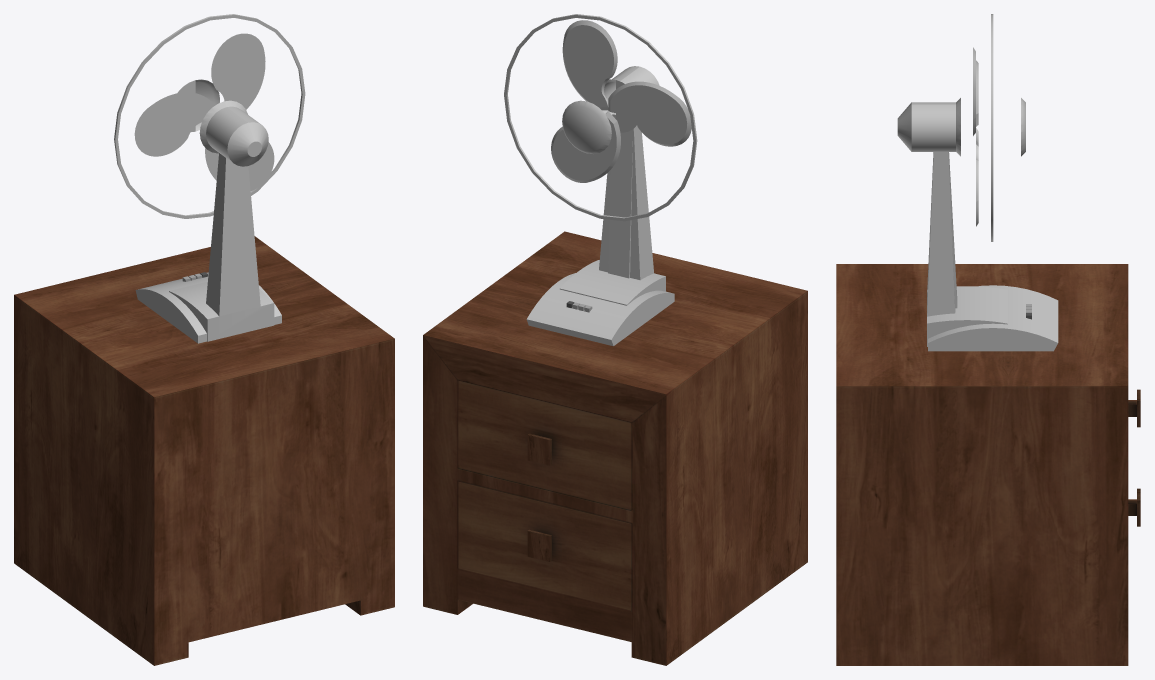
File: Fan.glb
3 renders of one model, left to right at view 1: azimuth 30°, elevation 25°; view 2: azimuth 150°, elevation 25°; view 3: azimuth 270°, elevation 25°, orthographic. The views are drawn at different scales.
Visible parts, largest first — view 1: Bollard, ID90, group_3, group_1, ID74, ID68, ID112, ID138, group_0, group_2, ID60, ID47; view 2: Bollard, ID90, group_3, group_1, group_0, ID74, group_2, ID47, ID138, ID68; view 3: Bollard, ID90, group_0, ID68, ID74, ID144, ID112.
Boxes of the visible parts, bbox=[...] form: Bollard: bbox=[14, 236, 394, 665]; ID90: bbox=[169, 153, 274, 341]; group_3: bbox=[134, 92, 214, 156]; group_1: bbox=[211, 33, 265, 109]; ID74: bbox=[114, 14, 305, 218]; ID68: bbox=[199, 100, 261, 162]; ID112: bbox=[227, 122, 268, 166]; ID138: bbox=[135, 289, 281, 343]; group_0: bbox=[138, 272, 281, 335]; group_2: bbox=[205, 142, 274, 190]; ID60: bbox=[117, 17, 302, 215]; ID47: bbox=[177, 79, 219, 131]; Bollard: bbox=[423, 231, 807, 665]; ID90: bbox=[560, 113, 665, 304]; group_3: bbox=[608, 81, 691, 146]; group_1: bbox=[562, 20, 617, 110]; group_0: bbox=[527, 273, 671, 339]; ID74: bbox=[504, 14, 697, 221]; group_2: bbox=[551, 111, 620, 182]; ID47: bbox=[562, 100, 611, 154]; ID138: bbox=[611, 293, 674, 345]; ID68: bbox=[602, 66, 659, 114]; Bollard: bbox=[836, 264, 1140, 665]; ID90: bbox=[927, 152, 1007, 323]; group_0: bbox=[928, 285, 1058, 351]; ID68: bbox=[911, 98, 960, 156]; ID74: bbox=[991, 14, 993, 241]; ID144: bbox=[927, 320, 1007, 346]; ID112: bbox=[897, 102, 911, 151].
Bounding box in the file's own units: 0.6138 × 1.37 × 0.645.
7 materials, 1 textured.
